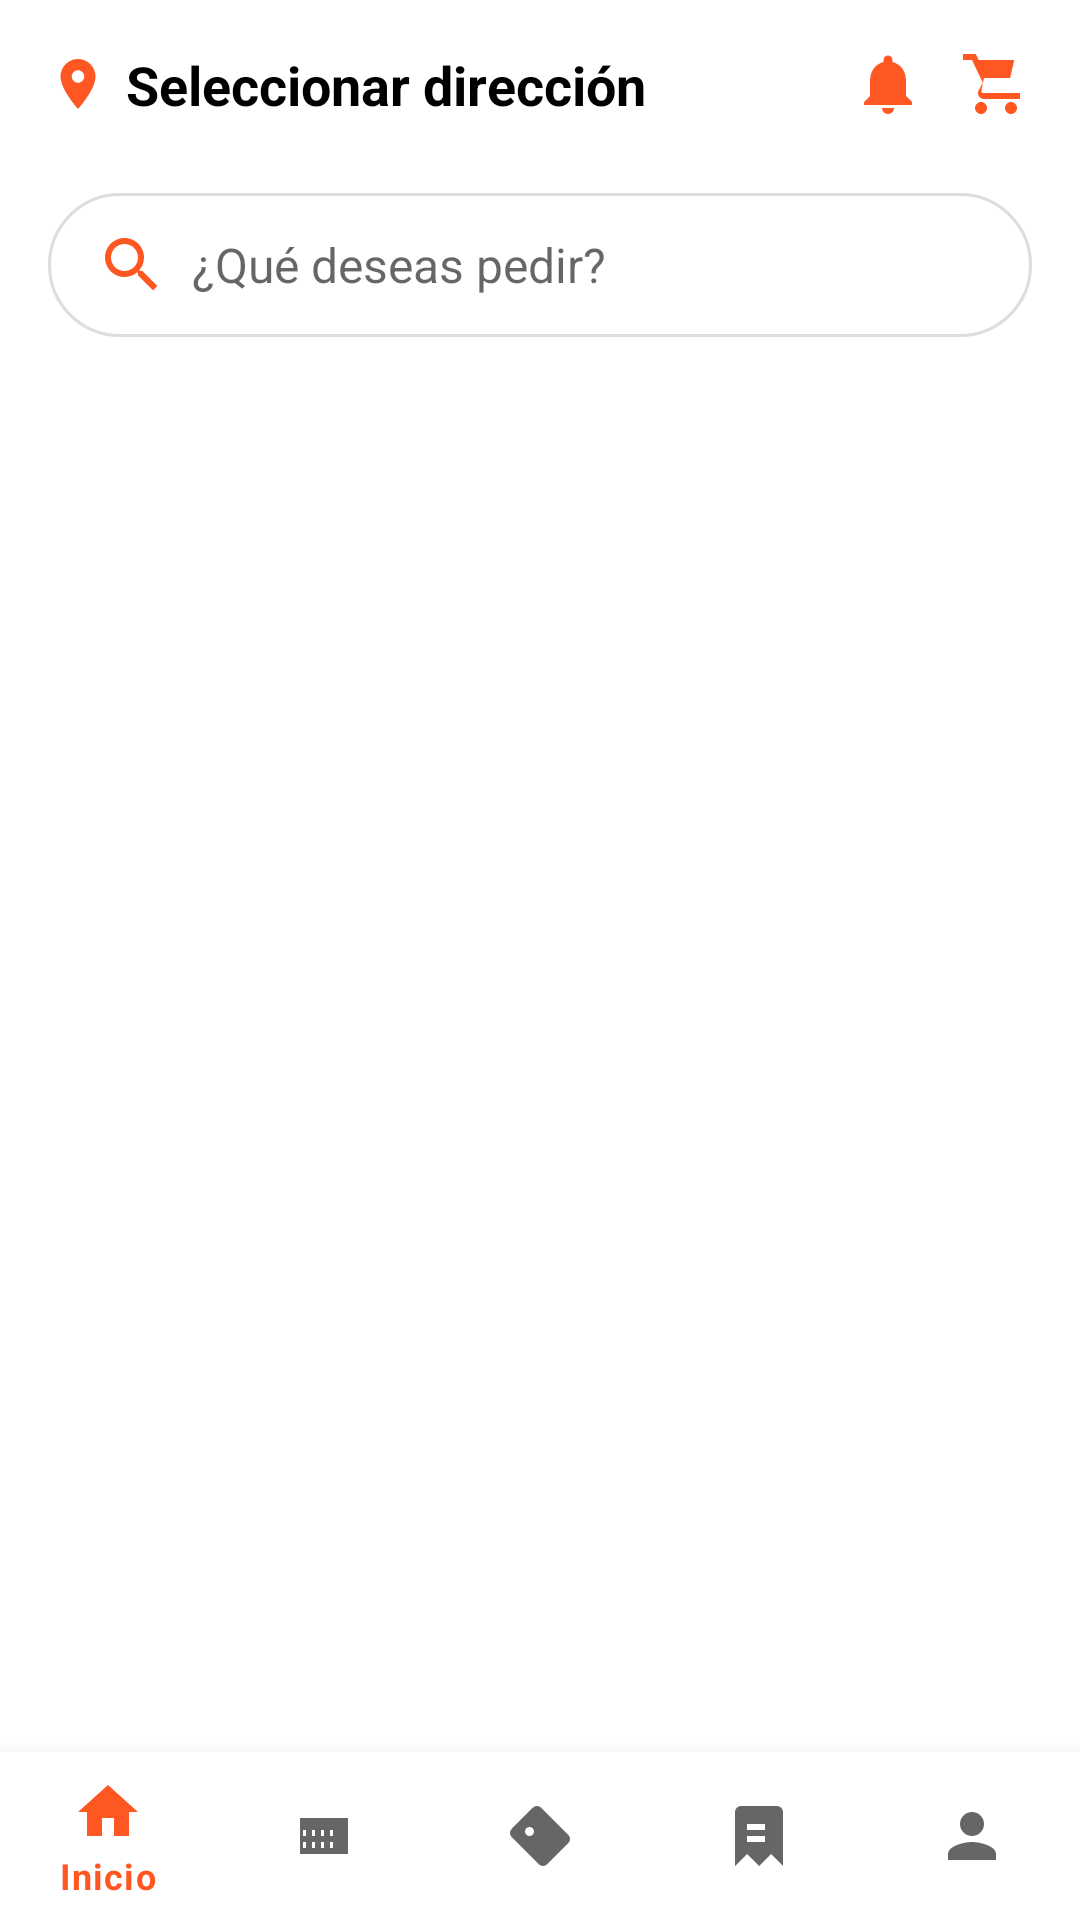

Point at icon controls on the screen. Image size 1080px x 1920px, points as (x=x, y=y).
Carrito: (x=991, y=84)
Notificaciones: (x=888, y=84)
Ubicación: (x=78, y=84)
